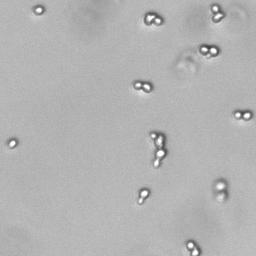budding: (211, 178, 229, 203), (142, 10, 165, 28), (197, 43, 222, 58), (209, 3, 226, 25), (135, 187, 153, 207), (184, 239, 203, 256), (131, 80, 154, 94), (232, 109, 254, 122)
cluster: (147, 131, 168, 170)
individual: (32, 3, 45, 17), (6, 138, 18, 151)
